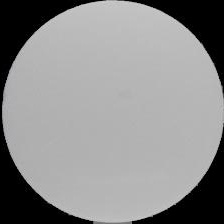68788-9388: (0, 0, 224, 224)
